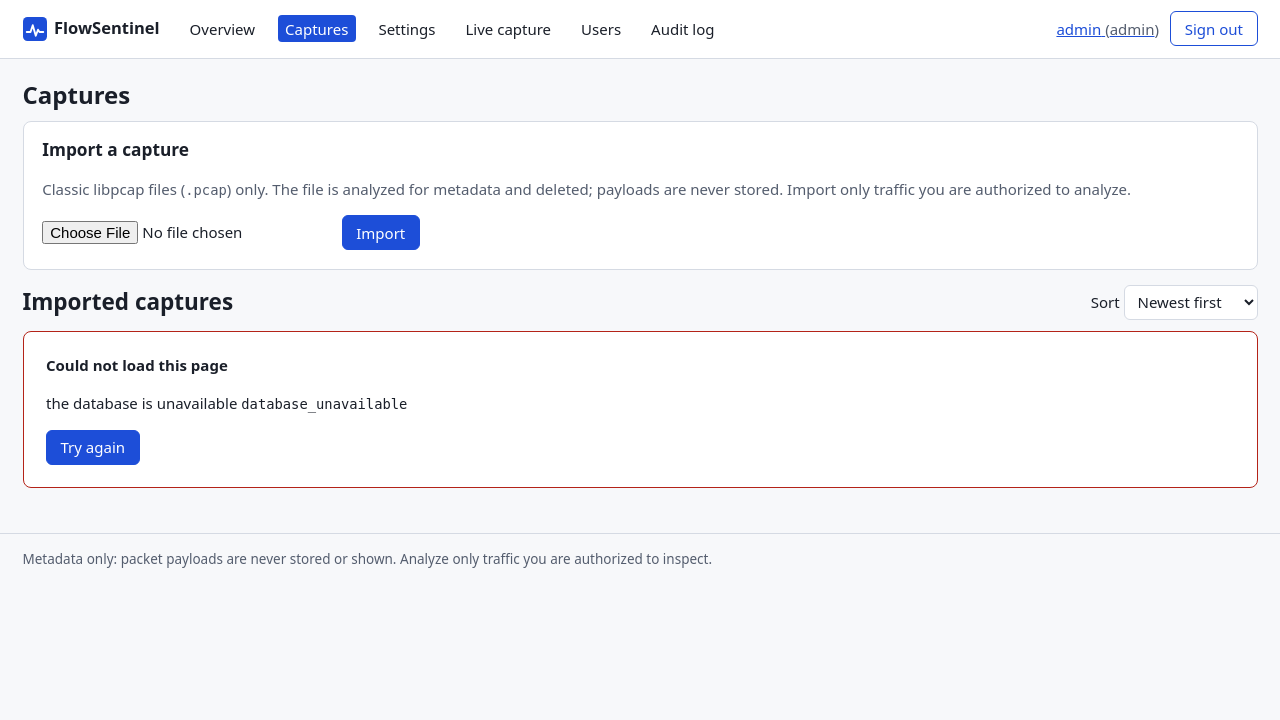
Test case: Captures › shows errors with a retry
Check: the message shows "the database is unavailable", box [46, 393, 237, 413]
Step 1. Click the button "Try again" → (93, 447), box [46, 430, 140, 464]
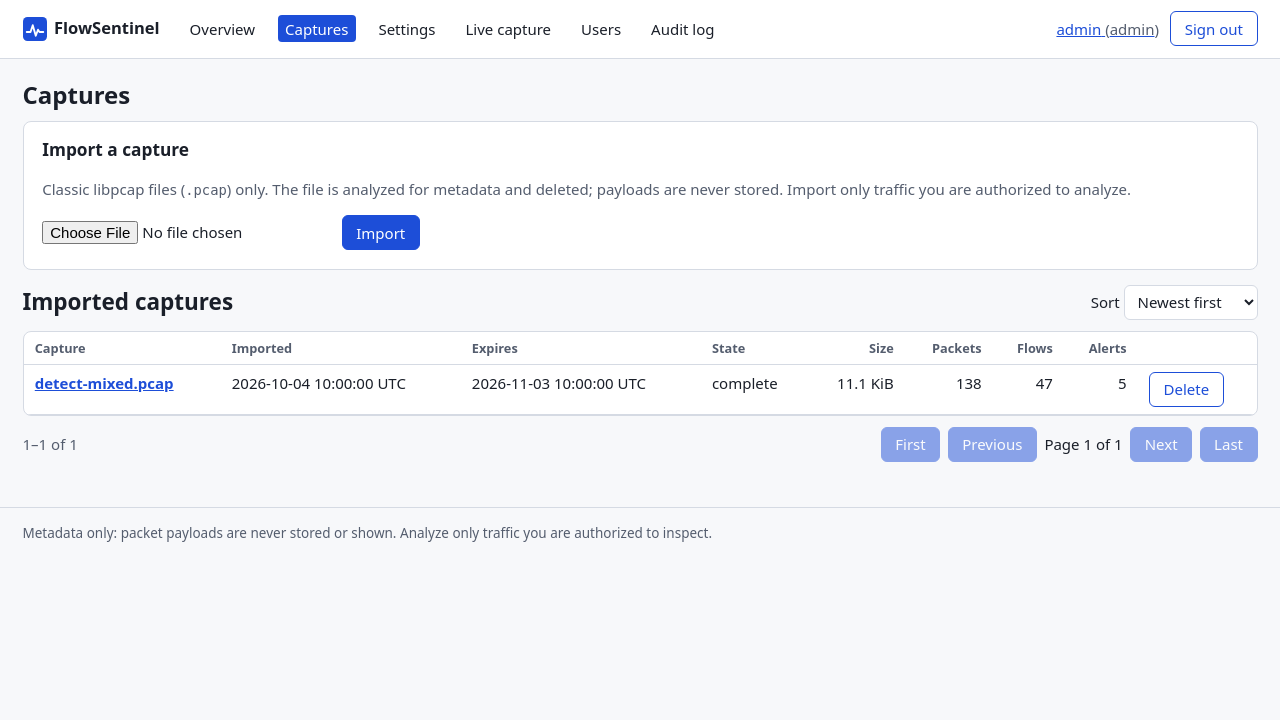
Check: the link "detect-mixed.pcap" is shown, box [35, 373, 174, 393]
